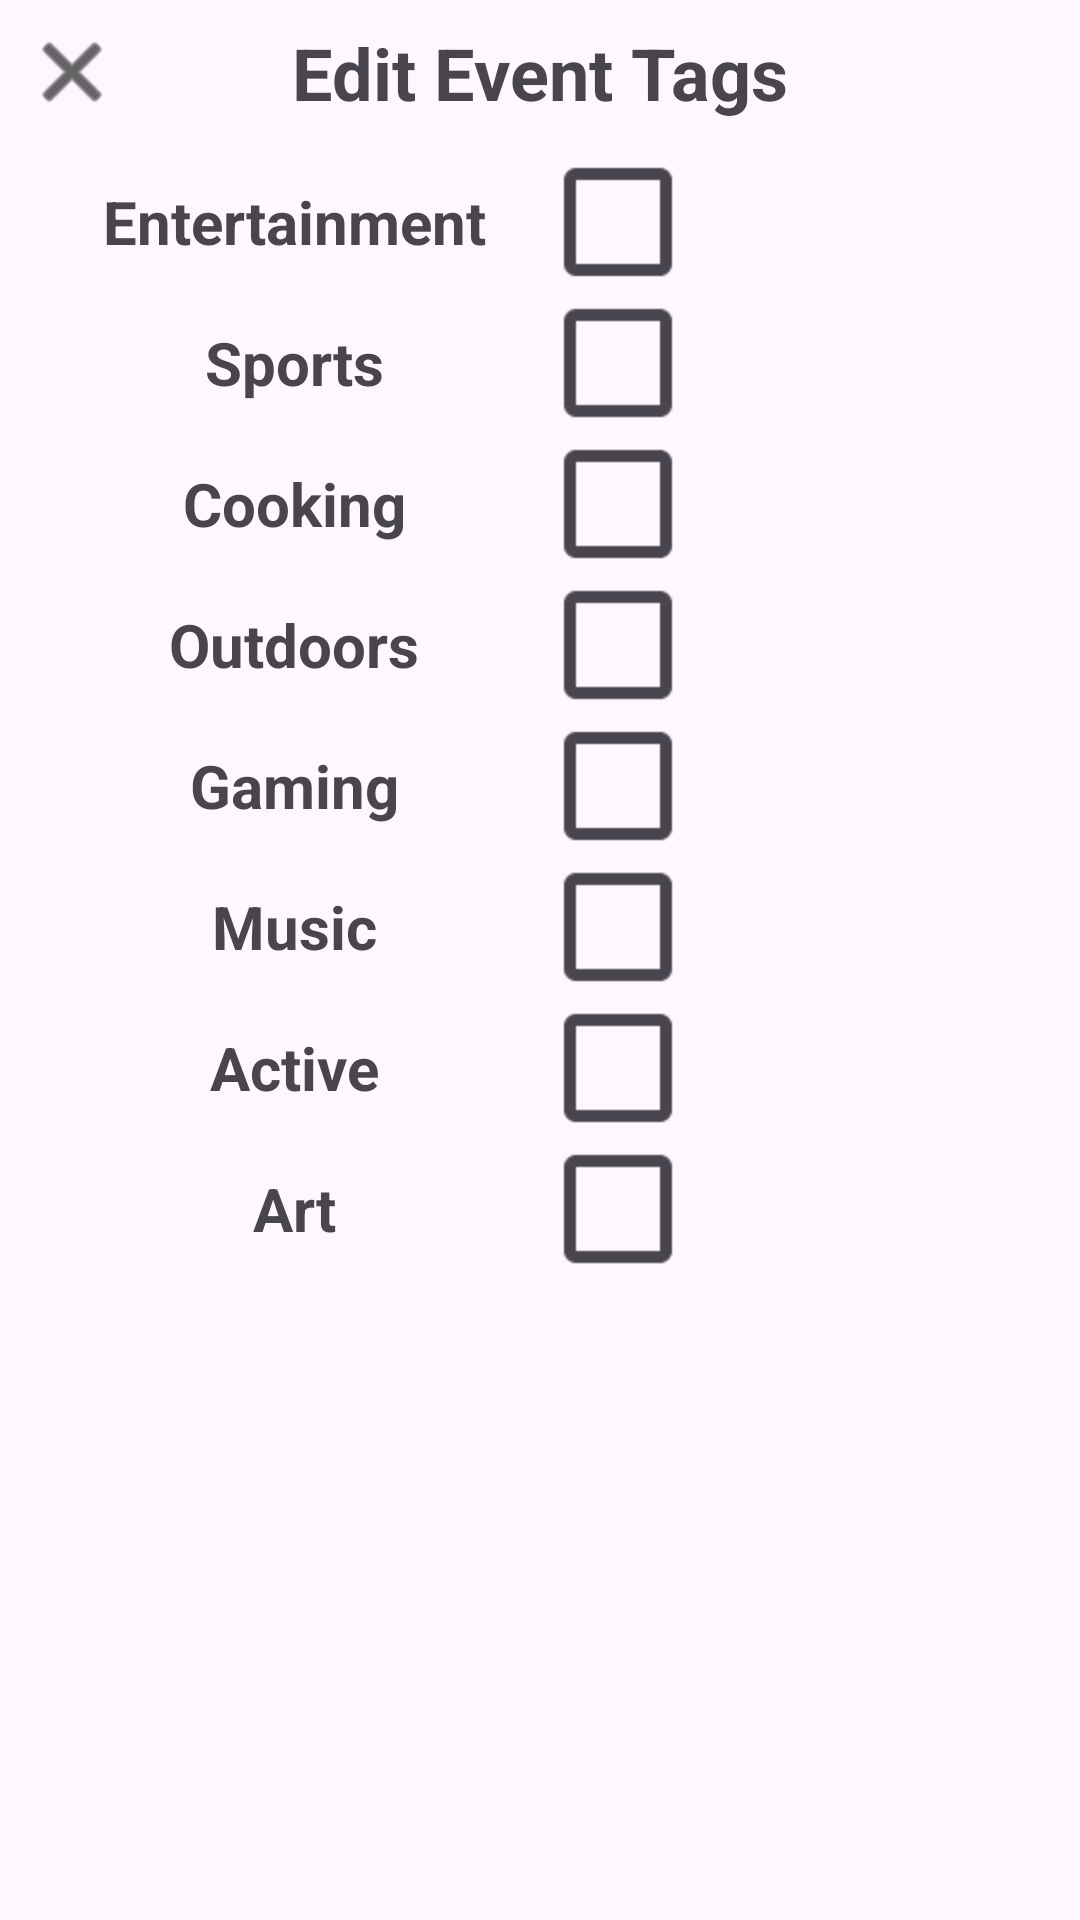

Icons on this 1080px×1920px Android screen, each with its box as (x1,y1,x2,y2):
close clear cancel: (42,42,102,102)
